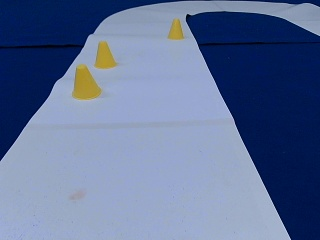cone: (71, 65, 102, 99), (93, 41, 116, 68), (167, 18, 183, 39)
